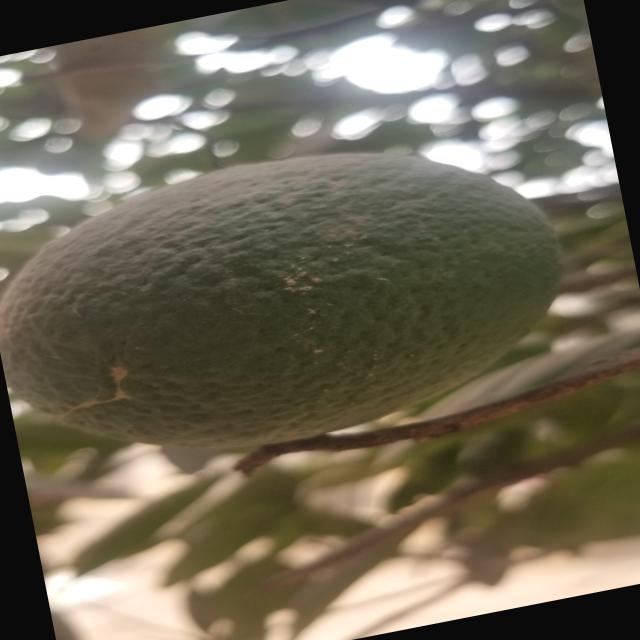agrume: (0, 108, 585, 491)
